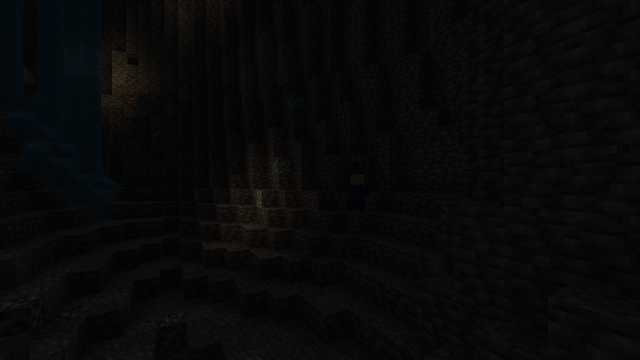sorcieres: (348, 172, 366, 215)
